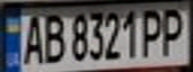1: (121, 7, 142, 60)
2: (103, 7, 124, 61)
3: (87, 8, 106, 62)
8: (66, 9, 90, 62)
A: (18, 10, 45, 65)
B: (39, 10, 69, 64)
P: (157, 3, 190, 57), (139, 5, 169, 57)
